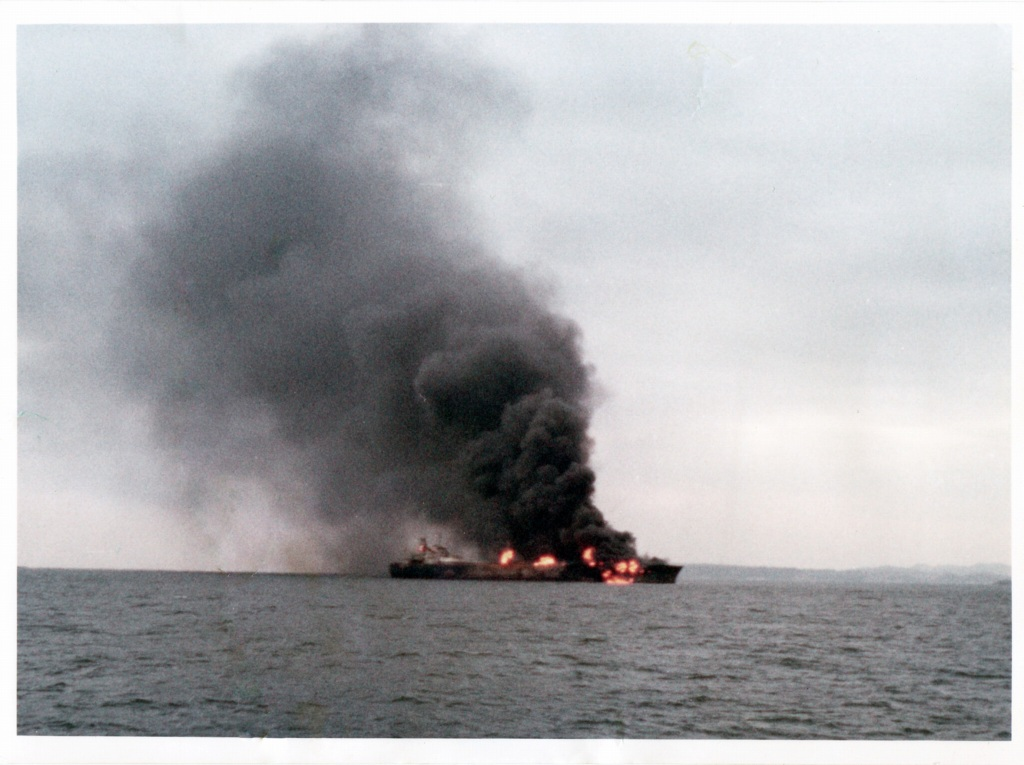fire: (466, 505, 689, 597)
